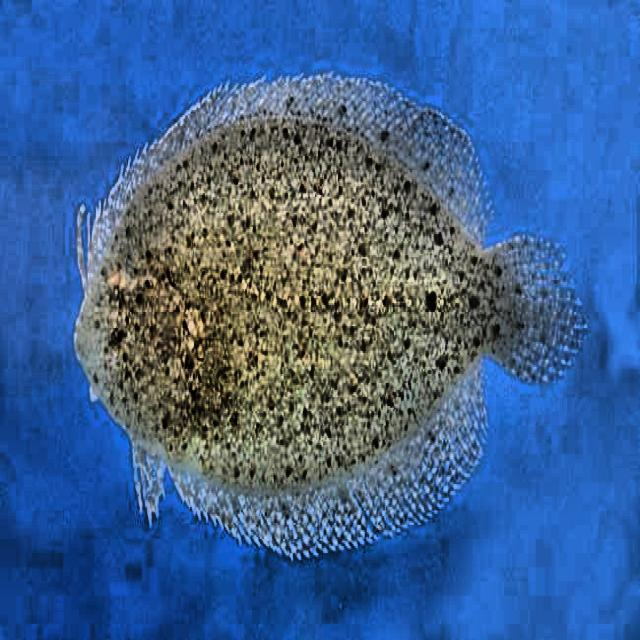fish: (75, 70, 589, 560)
